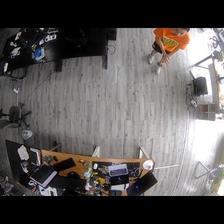normal: (145, 29, 190, 75)
